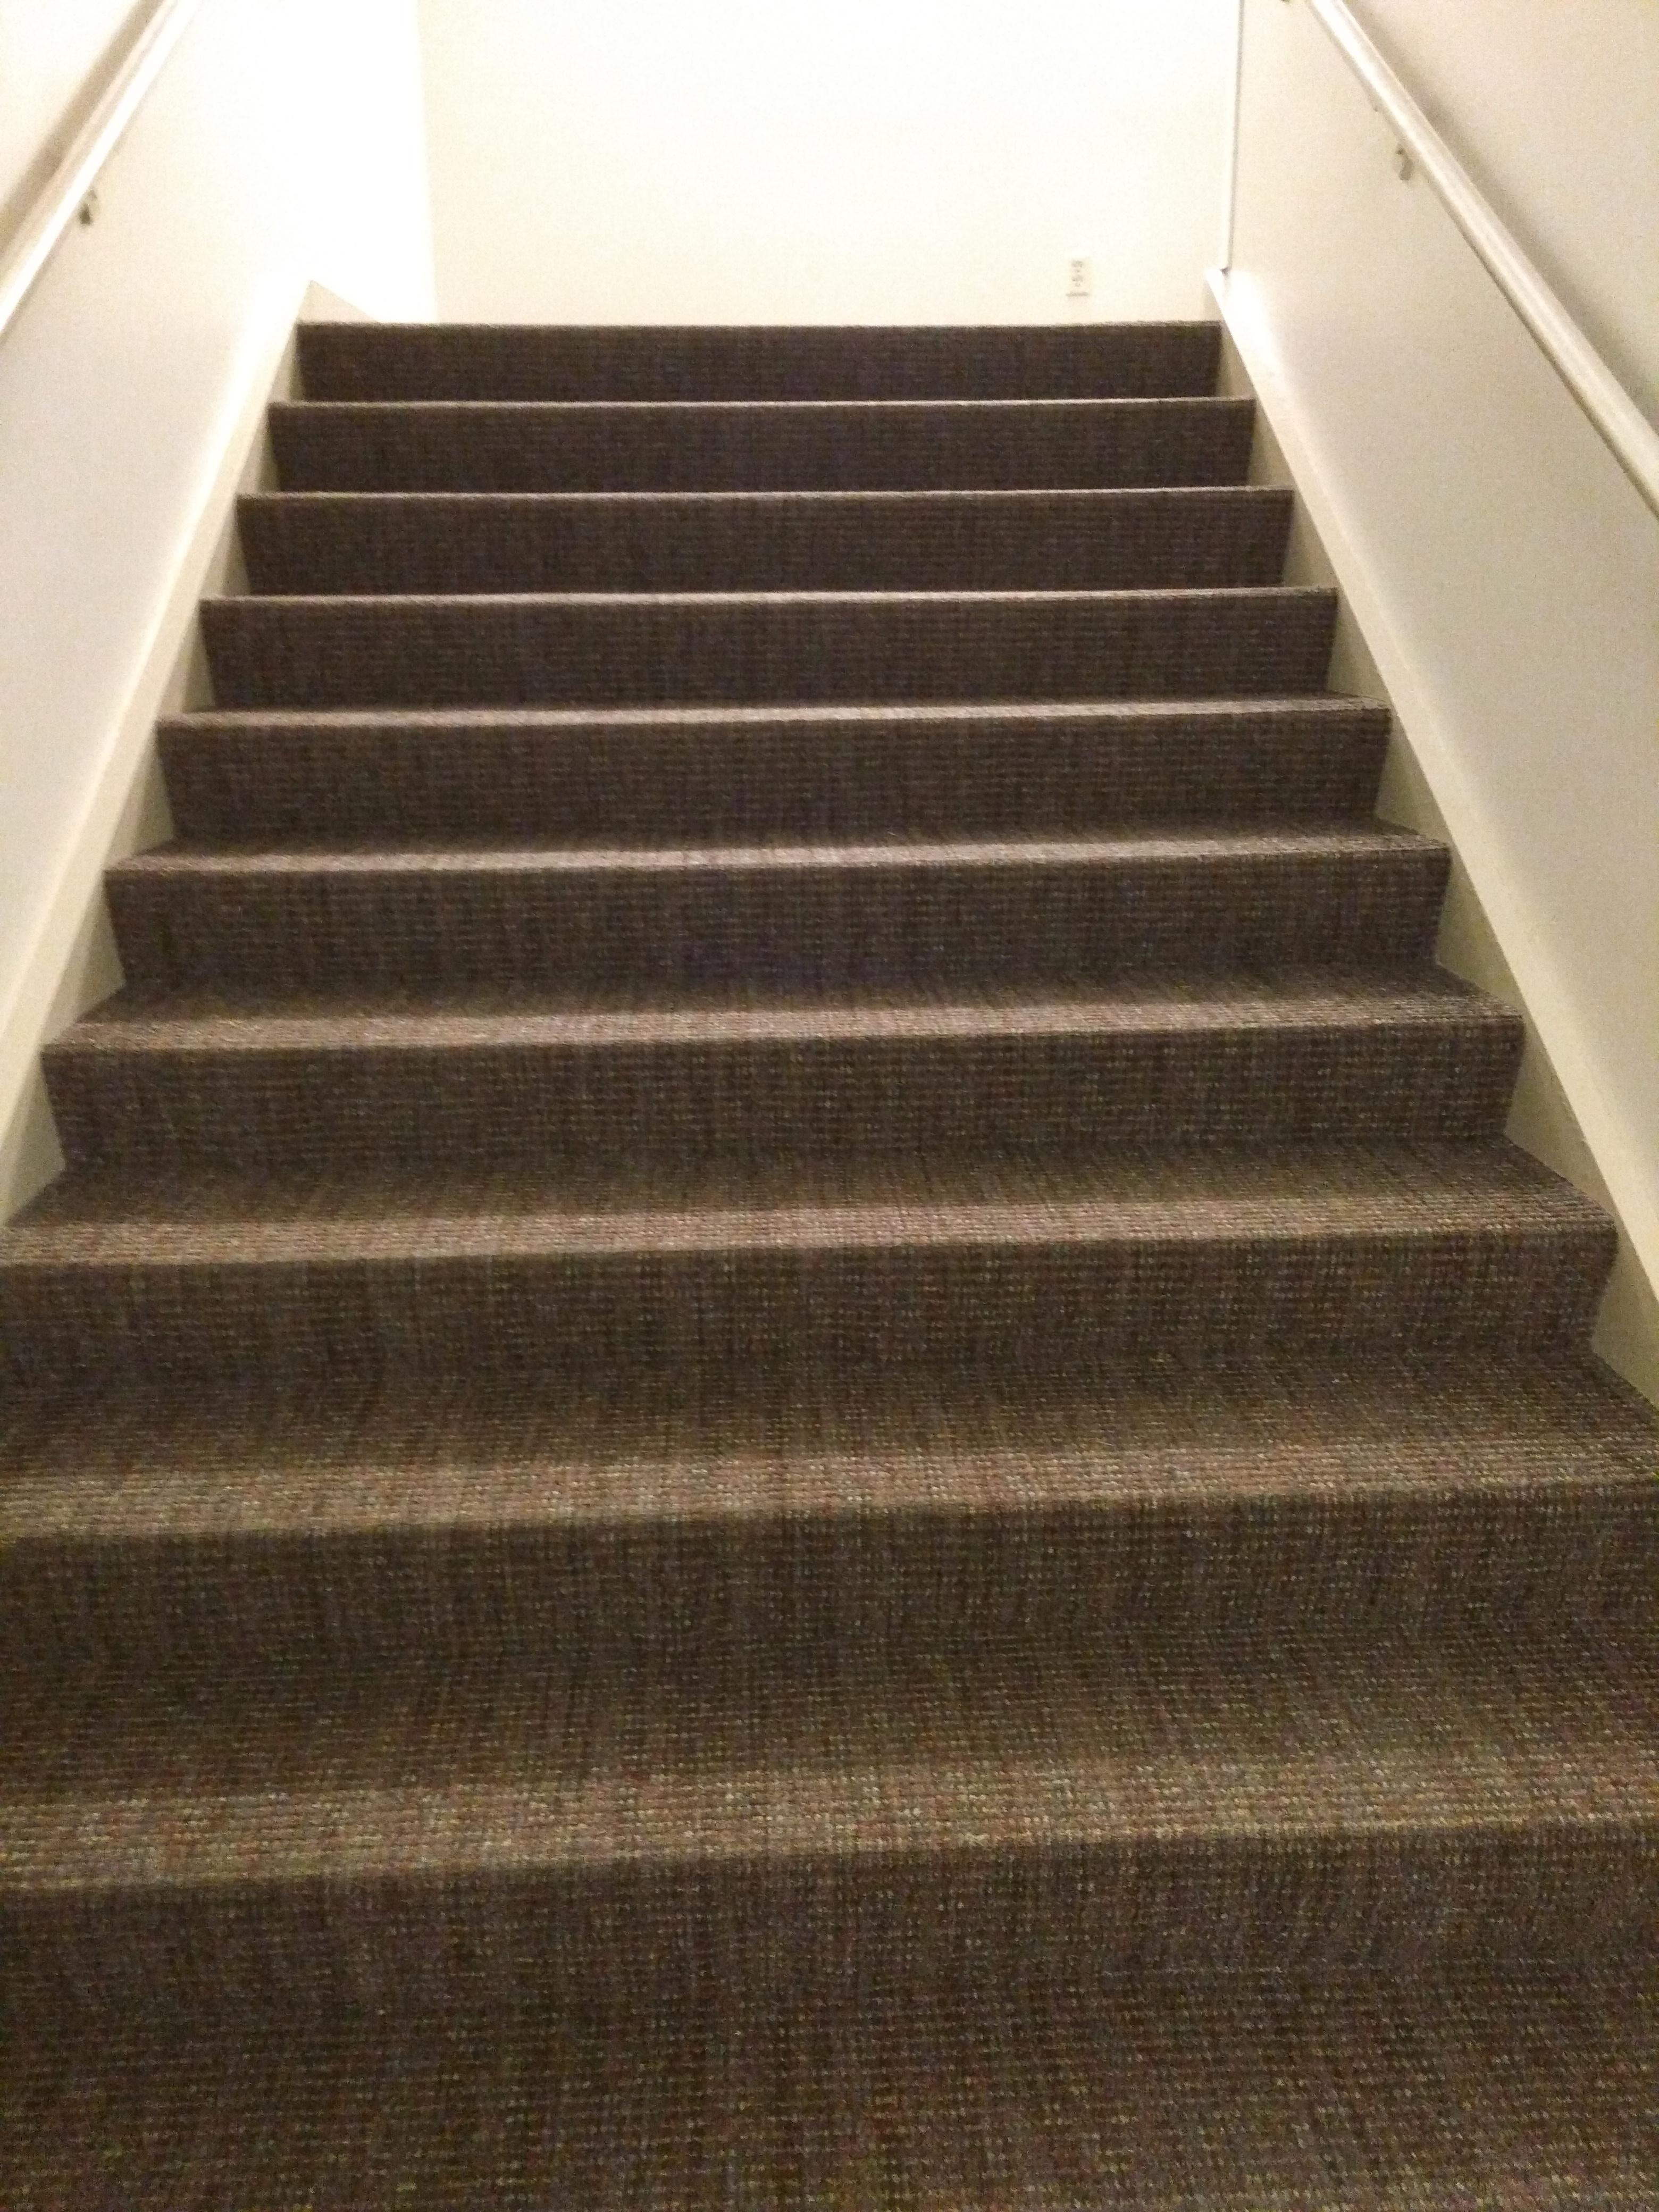stairs_up: (10, 293, 1643, 1993)
